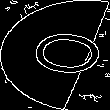O_E: (7, 27, 103, 83)
